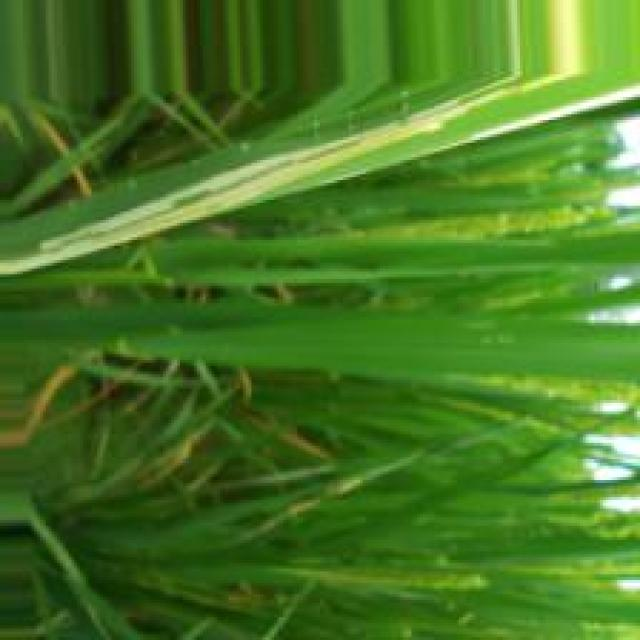Rice_Hispa: (0, 83, 528, 281)
